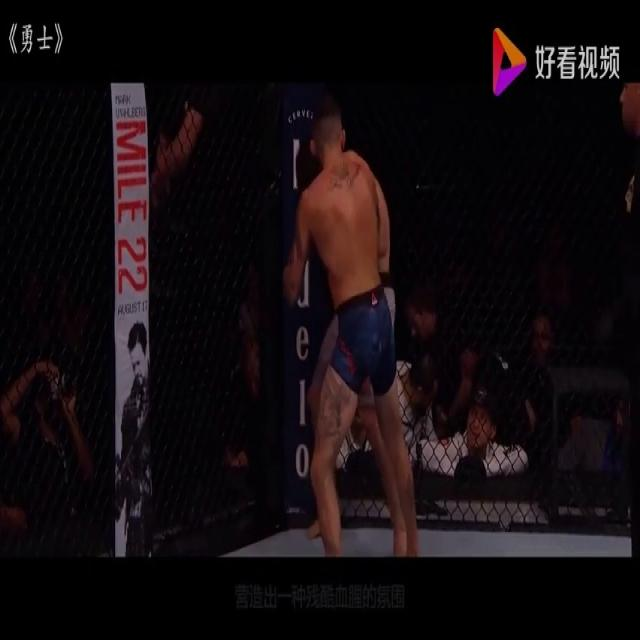fight: (283, 93, 429, 559)
